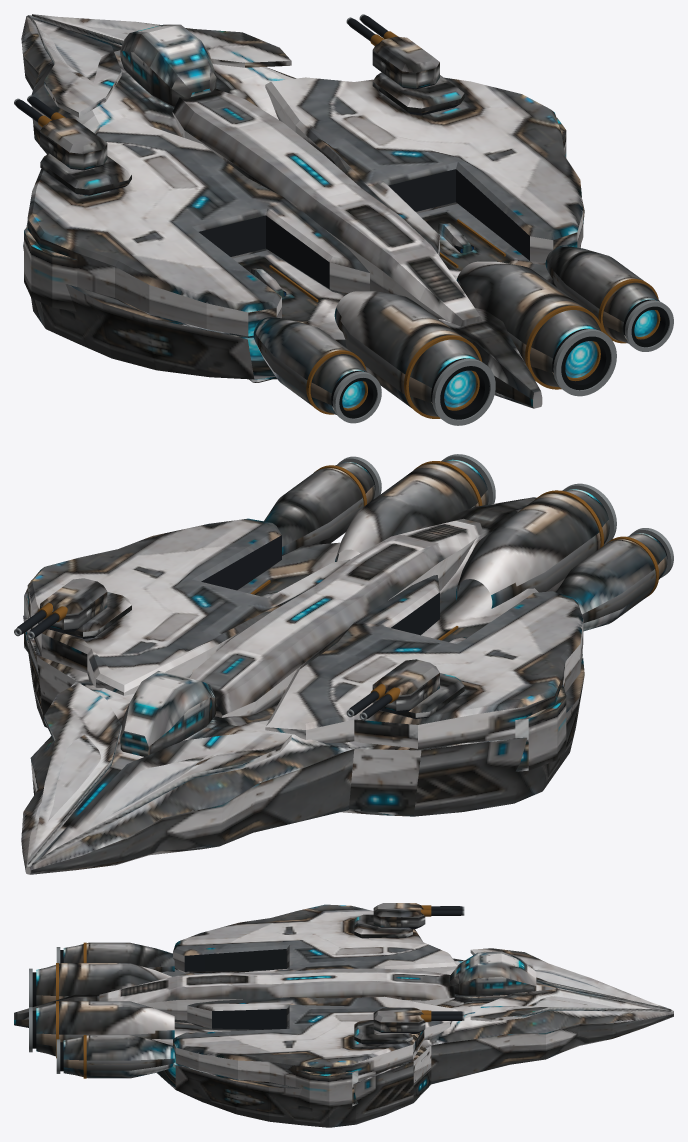
The model's file is cruiser.obj.
3 views of the same model, one above another, from view 1: azimuth 30°, elevation 25°; view 2: azimuth 150°, elevation 25°; view 3: azimuth 270°, elevation 25° (orthographic). The views are drawn at different scales.
Parts seen in each view (by area): view 1: 04_|_port_shoulder_armor_around_recessed_bay, 04_|_starboard_shoulder_armor_around_recessed_bay, 01_|_continuous_armored_hull_with_mapped_belly, 02_|_central_dorsal_service_spine, engine.port.inner_|_armored_nacelle, engine.starboard.inner_|_armored_nacelle, engine.port.outer_|_armored_nacelle, 07_|_raised_command_bridge, 03_|_port_raised_prow_armor, engine.starboard.outer_|_armored_nacelle, 03_|_starboard_raised_prow_armor, 05_|_port_outer_shoulder_collar (+18 smaller); view 2: 01_|_continuous_armored_hull_with_mapped_belly, 04_|_port_shoulder_armor_around_recessed_bay, 04_|_starboard_shoulder_armor_around_recessed_bay, 02_|_central_dorsal_service_spine, engine.port.inner_|_armored_nacelle, 03_|_port_raised_prow_armor, 03_|_starboard_raised_prow_armor, engine.starboard.inner_|_armored_nacelle, engine.port.outer_|_armored_nacelle, engine.starboard.outer_|_armored_nacelle, 07_|_raised_command_bridge, 05_|_port_outer_shoulder_collar (+5 smaller); view 3: 01_|_continuous_armored_hull_with_mapped_belly, 04_|_starboard_shoulder_armor_around_recessed_bay, 04_|_port_shoulder_armor_around_recessed_bay, 02_|_central_dorsal_service_spine, engine.starboard.inner_|_armored_nacelle, engine.starboard.outer_|_armored_nacelle, engine.port.inner_|_armored_nacelle, 03_|_starboard_raised_prow_armor, 07_|_raised_command_bridge, 03_|_port_raised_prow_armor, engine.port.outer_|_armored_nacelle, 05_|_starboard_outer_shoulder_collar (+4 smaller).
Boxes of the visible parts, <box> form: 04_|_port_shoulder_armor_around_recessed_bay: <box>27,117,369,337</box>; 04_|_starboard_shoulder_armor_around_recessed_bay: <box>265,77,583,265</box>; 01_|_continuous_armored_hull_with_mapped_belly: <box>21,15,584,408</box>; 02_|_central_dorsal_service_spine: <box>172,88,482,326</box>; engine.port.inner_|_armored_nacelle: <box>334,291,479,416</box>; engine.starboard.inner_|_armored_nacelle: <box>456,261,601,387</box>; engine.port.outer_|_armored_nacelle: <box>253,317,367,414</box>; 07_|_raised_command_bridge: <box>120,24,216,107</box>; 03_|_port_raised_prow_armor: <box>28,15,121,117</box>; engine.starboard.outer_|_armored_nacelle: <box>545,245,659,343</box>; 03_|_starboard_raised_prow_armor: <box>32,14,291,67</box>; 05_|_port_outer_shoulder_collar: <box>24,226,77,311</box>; 01_|_continuous_armored_hull_with_mapped_belly: <box>21,497,584,874</box>; 04_|_port_shoulder_armor_around_recessed_bay: <box>265,575,583,748</box>; 04_|_starboard_shoulder_armor_around_recessed_bay: <box>27,518,350,695</box>; 02_|_central_dorsal_service_spine: <box>189,518,482,717</box>; engine.port.inner_|_armored_nacelle: <box>456,489,609,608</box>; 03_|_port_raised_prow_armor: <box>32,733,291,865</box>; 03_|_starboard_raised_prow_armor: <box>28,683,121,864</box>; engine.starboard.inner_|_armored_nacelle: <box>335,459,488,561</box>; engine.port.outer_|_armored_nacelle: <box>556,533,667,631</box>; engine.starboard.outer_|_armored_nacelle: <box>264,462,375,555</box>; 07_|_raised_command_bridge: <box>120,671,216,756</box>; 05_|_port_outer_shoulder_collar: <box>515,685,566,771</box>; 01_|_continuous_armored_hull_with_mapped_belly: <box>14,958,673,1127</box>; 04_|_starboard_shoulder_armor_around_recessed_bay: <box>173,996,457,1086</box>; 04_|_port_shoulder_armor_around_recessed_bay: <box>173,904,457,973</box>; 02_|_central_dorsal_service_spine: <box>99,968,454,1023</box>; engine.starboard.inner_|_armored_nacelle: <box>36,1001,174,1056</box>; engine.starboard.outer_|_armored_nacelle: <box>63,1035,174,1078</box>; engine.port.inner_|_armored_nacelle: <box>36,963,171,1005</box>; 03_|_starboard_raised_prow_armor: <box>470,989,671,1021</box>; 07_|_raised_command_bridge: <box>450,951,536,996</box>; 03_|_port_raised_prow_armor: <box>470,948,671,1010</box>; engine.port.outer_|_armored_nacelle: <box>63,942,174,972</box>; 05_|_starboard_outer_shoulder_collar: <box>295,1070,358,1109</box>.
Size of the model in its own units: 11.07 by 3.07 by 18.57.
Materials: 7 (2 with a texture image).
